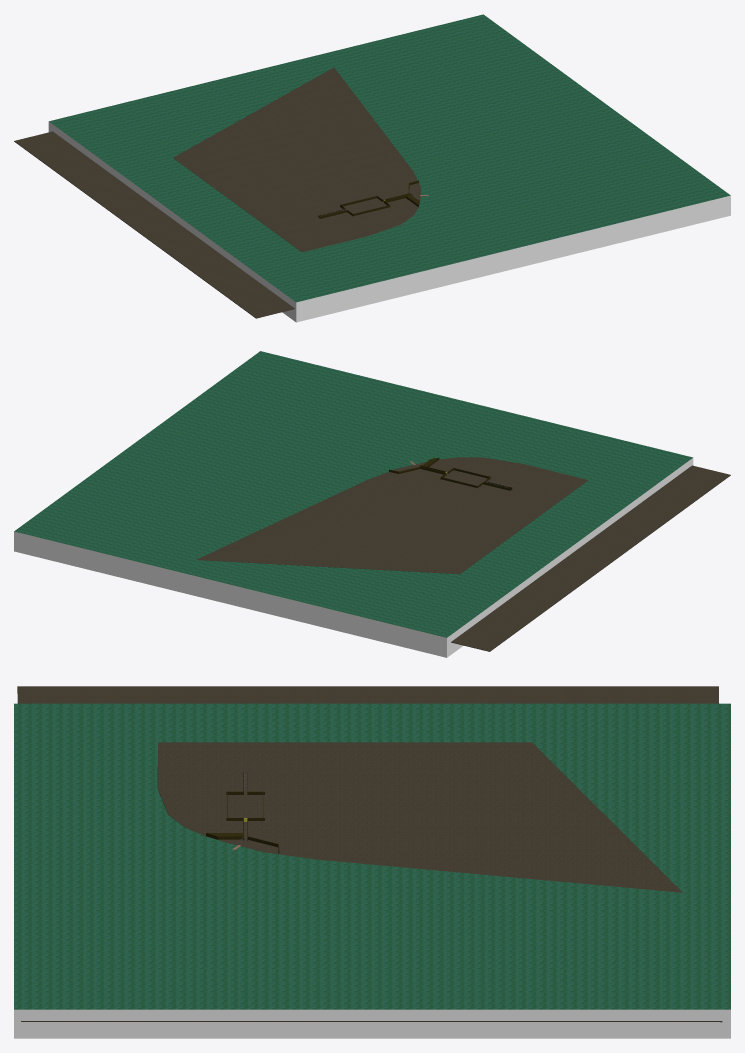
File: lvl1.obj
The picture shows the model from 3 angles, top to bottom: view 1: azimuth 30°, elevation 25°; view 2: azimuth 150°, elevation 25°; view 3: azimuth 270°, elevation 25°; orthographic projection. The views are drawn at different scales.
Visible parts, largest first — view 1: entity2_brush0, entity0_brush0, entity0_brush1; view 2: entity2_brush0, entity0_brush0, entity0_brush1; view 3: entity2_brush0, entity0_brush0, entity0_brush1.
Boxes of the visible parts, x1,y1,x2,y2 form: entity2_brush0: (48,14,730,322); entity0_brush0: (173,67,420,252); entity0_brush1: (14,131,294,318); entity2_brush0: (14,351,693,657); entity0_brush0: (196,457,588,574); entity0_brush1: (451,465,730,651); entity2_brush0: (14,703,730,1038); entity0_brush0: (157,742,682,892); entity0_brush1: (17,686,722,1022).
Bounding box in the file's own units: 29600 × 1422 × 26752.
